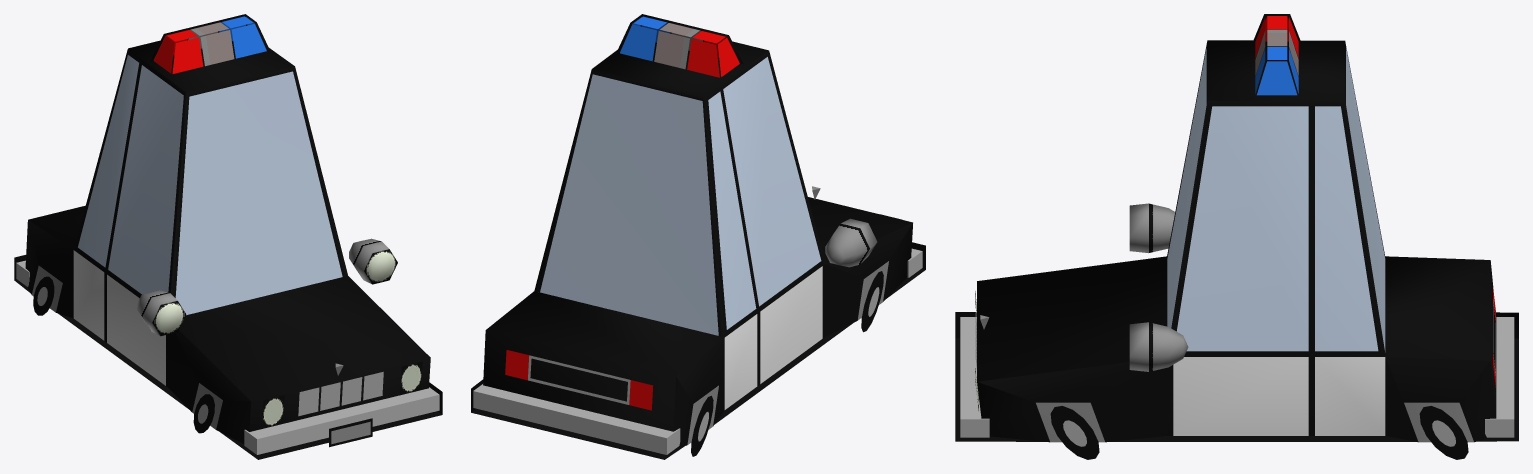
The model's file is policecar.obj.
3 renders of one model, left to right at view 1: azimuth 30°, elevation 25°; view 2: azimuth 150°, elevation 25°; view 3: azimuth 270°, elevation 25°, orthographic. The views are drawn at different scales.
Visible parts, largest first — view 1: Mesh_0048; view 2: Mesh_0048; view 3: Mesh_0048.
Boxes of the visible parts, x1,y1,x2,y2 form: Mesh_0048: [14, 14, 442, 459]; Mesh_0048: [471, 14, 925, 459]; Mesh_0048: [955, 14, 1518, 459].
Bounding box in the file's own units: 20.97 × 25.91 × 35.84.
Materials: 1 (1 with a texture image).
